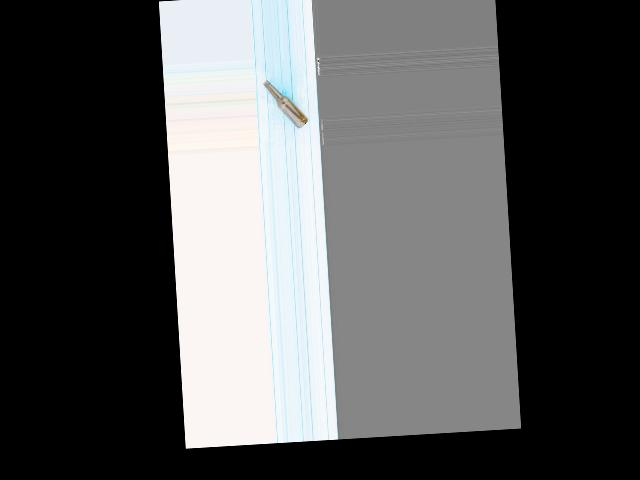beer: (263, 78, 309, 130)
